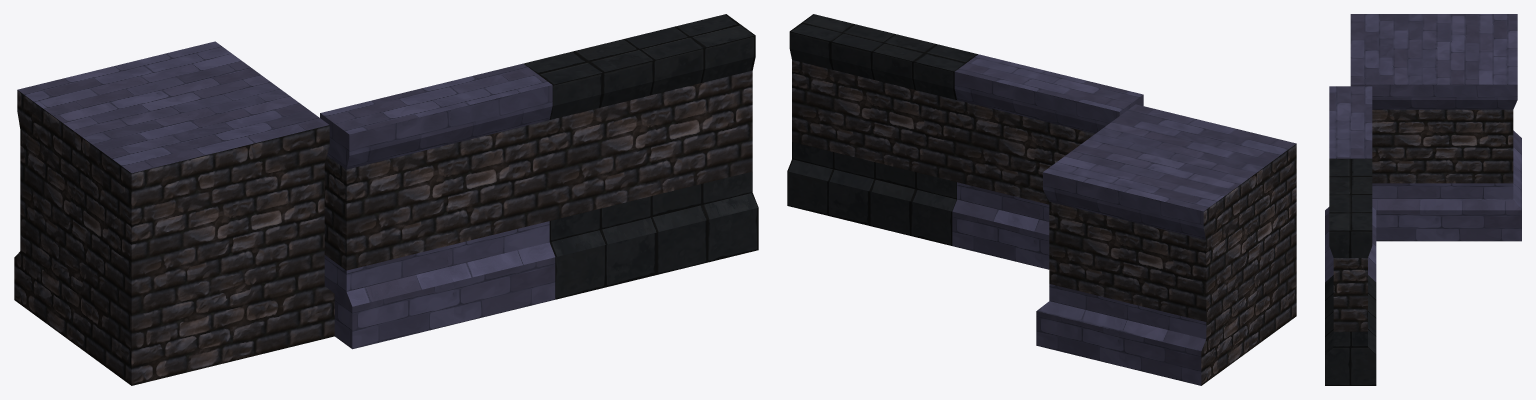
The model's file is walls.glb.
3 renders of one model, left to right at view 1: azimuth 30°, elevation 25°; view 2: azimuth 150°, elevation 25°; view 3: azimuth 270°, elevation 25°, orthographic. The views are drawn at different scales.
Visible parts, largest first — view 1: floor_corner, wall, stone; view 2: floor_corner, stone, wall; view 3: floor_corner, stone, wall.
Boxes of the visible parts, left/top/right/bottom form: floor_corner: left=14, top=41, right=334, bottom=385; wall: left=320, top=63, right=555, bottom=349; stone: left=523, top=14, right=758, bottom=299; floor_corner: left=1036, top=104, right=1296, bottom=385; stone: left=787, top=14, right=977, bottom=245; wall: left=952, top=54, right=1143, bottom=269; floor_corner: left=1350, top=14, right=1521, bottom=241; stone: left=1325, top=158, right=1376, bottom=385; wall: left=1325, top=86, right=1376, bottom=282.
Size of the model in its own units: 3 by 1 by 1.15.
6 materials, 6 textured.
